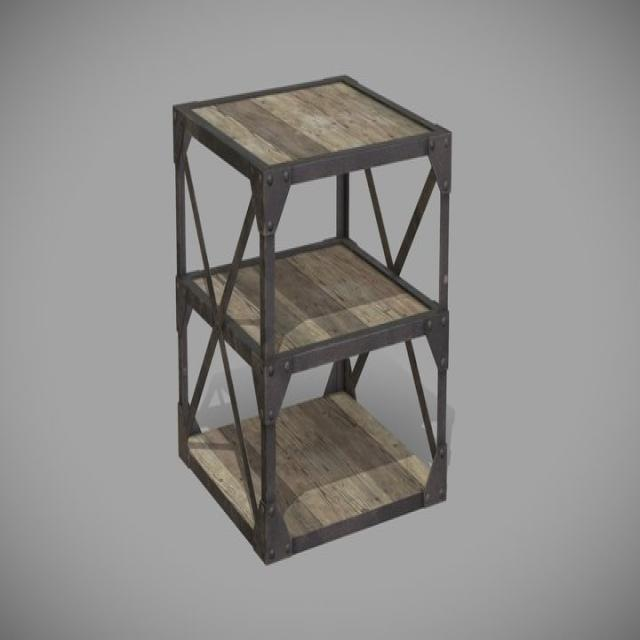table: (172, 70, 454, 567)
